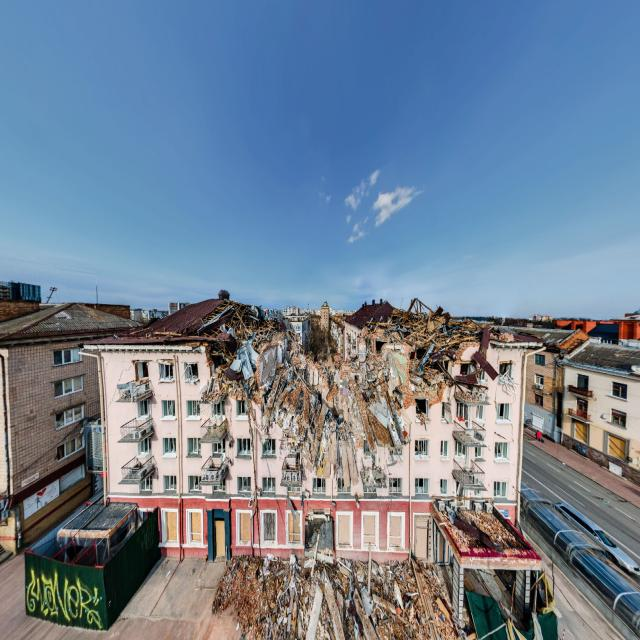building: (79, 294, 537, 566), (0, 296, 140, 551)
